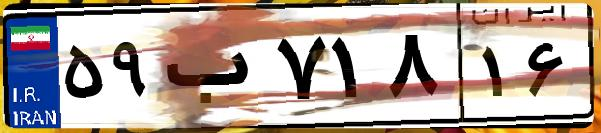1: (330, 28, 385, 110), (475, 38, 525, 113)
5: (57, 26, 110, 100)
6: (525, 38, 570, 115)
7: (270, 28, 330, 110)
8: (385, 28, 445, 110)
9: (110, 28, 158, 98)
ب: (158, 20, 270, 120)
